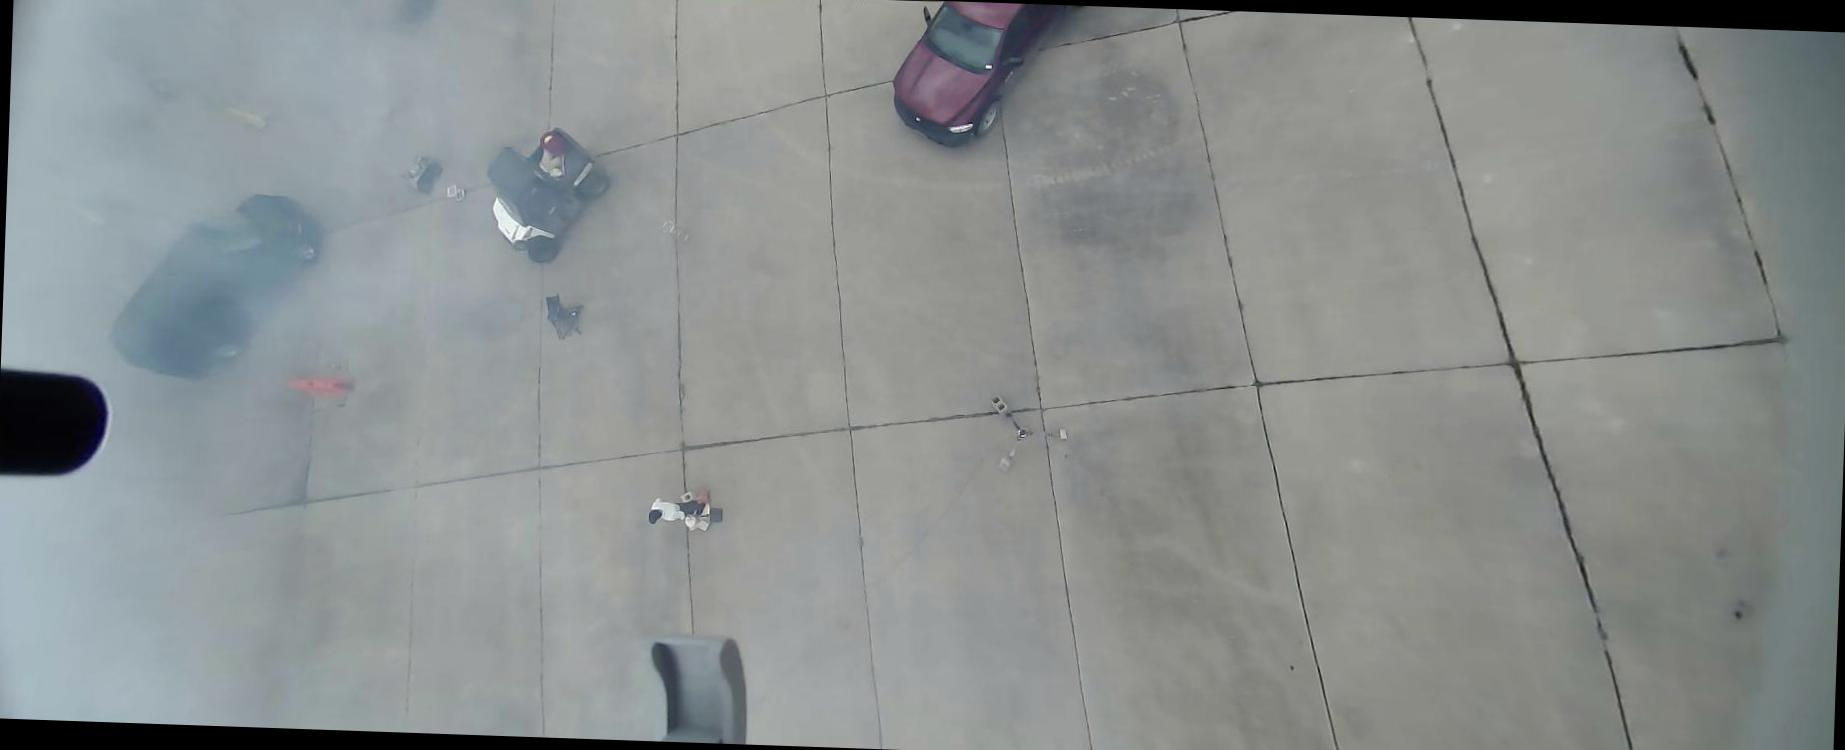vehicle: (106, 190, 320, 385), (891, 0, 1063, 142), (482, 124, 613, 266)
